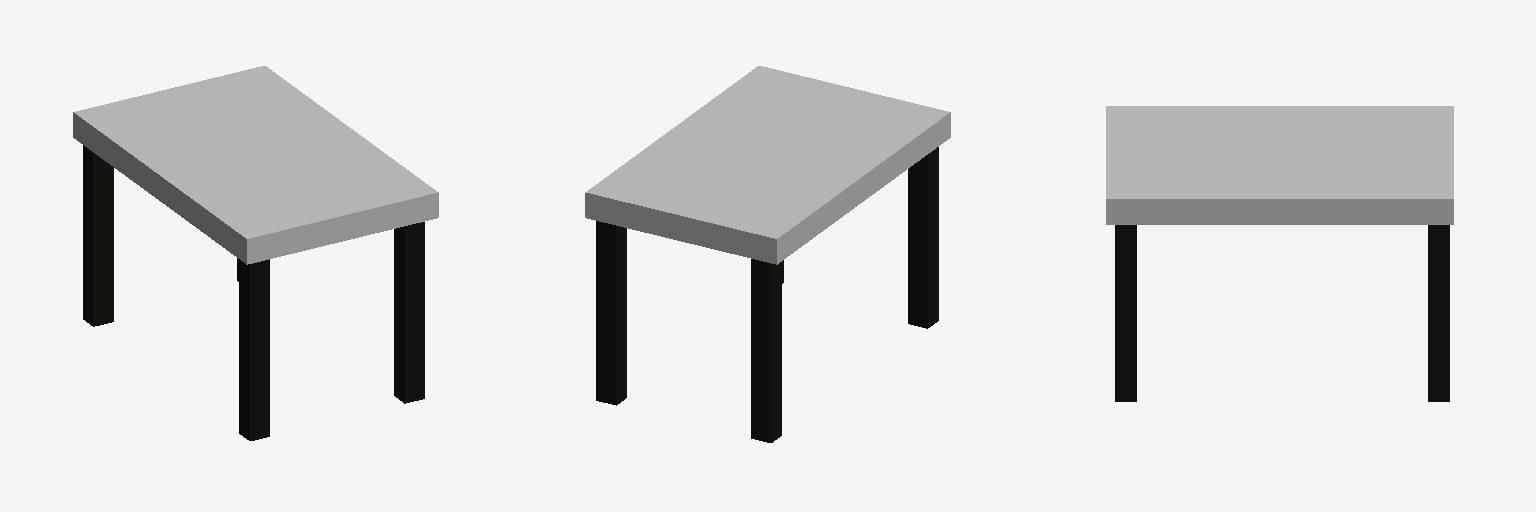
File: table.obj
The picture shows the model from 3 angles: view 1: azimuth 30°, elevation 25°; view 2: azimuth 150°, elevation 25°; view 3: azimuth 270°, elevation 25°; orthographic projection.
Parts seen in each view (by area): view 1: Cube, Cube.001_Cube.002, Cube.002_Cube.003, Cube.004_Cube.008; view 2: Cube, Cube.004_Cube.008, Cube.003_Cube.004, Cube.001_Cube.002; view 3: Cube, Cube.002_Cube.003, Cube.003_Cube.004.
Part boxes in pixels (x1,y1,x2,y2): Cube: (73, 66, 438, 264); Cube.001_Cube.002: (239, 259, 269, 440); Cube.002_Cube.003: (394, 222, 424, 403); Cube.004_Cube.008: (83, 145, 113, 326); Cube: (585, 66, 950, 264); Cube.004_Cube.008: (751, 259, 781, 442); Cube.003_Cube.004: (596, 221, 626, 405); Cube.001_Cube.002: (908, 147, 938, 328); Cube: (1106, 106, 1453, 224); Cube.002_Cube.003: (1115, 225, 1136, 401); Cube.003_Cube.004: (1428, 225, 1449, 401).
Size of the model in its own units: 2 by 2.07 by 3.14.